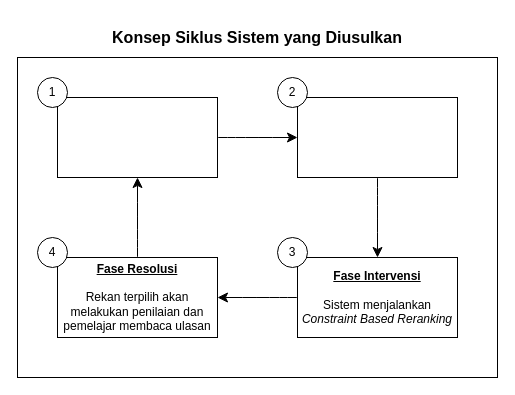
This 515x395 diagram has some shape labels left out. The centre of each missing label's shape, as x and y in pixels:
Fase Deteksi Stagnasi Sistem memantau perkembangan skor dan mendeteksi stagnasi: (x=377, y=137)
Fase Pelacakan Pemelajar menggunakan sistem dan skornya diperbarui: (x=137, y=137)
